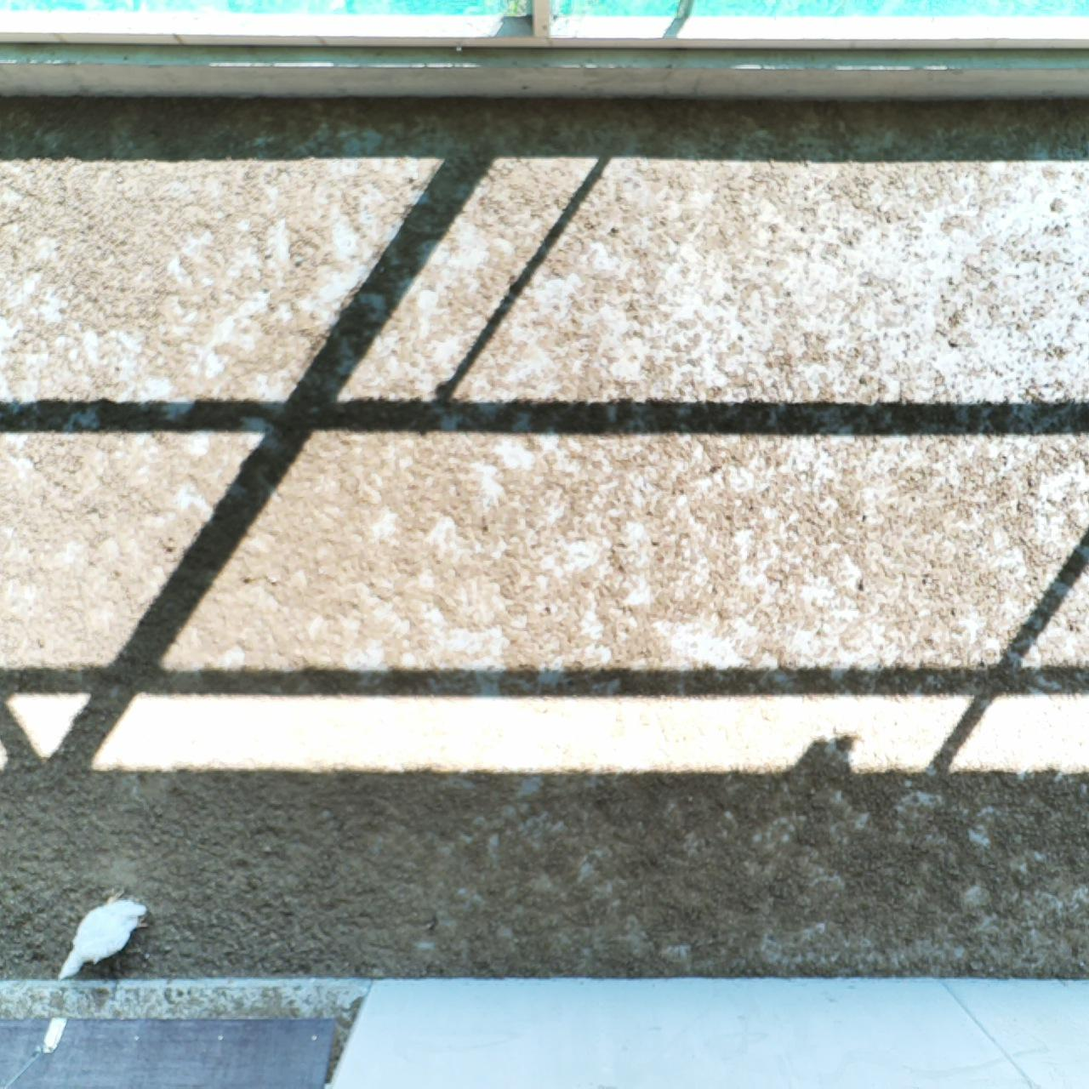chicken: (55, 883, 152, 986)
